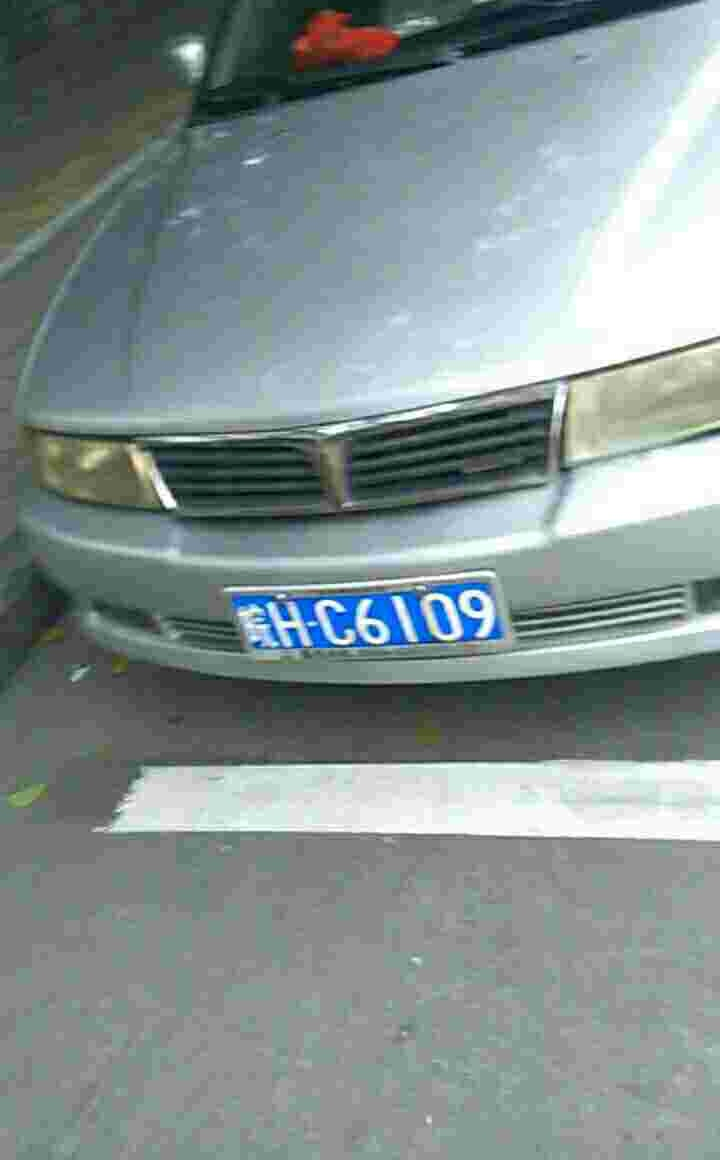plate: (218, 577, 521, 665)
